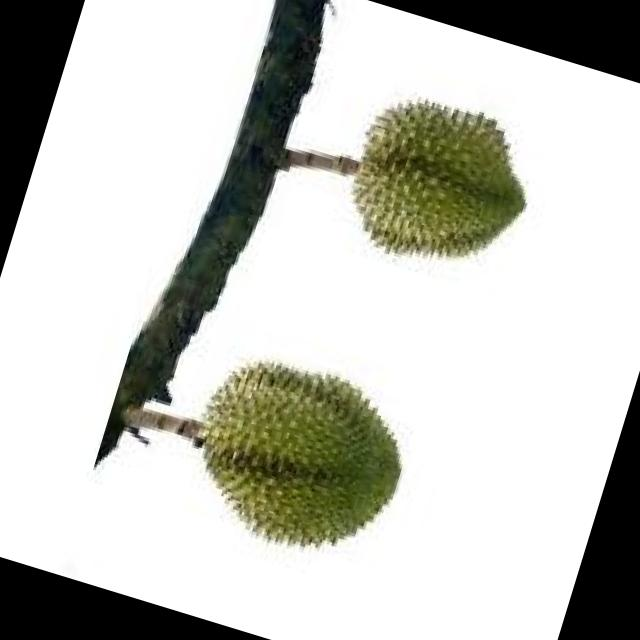fruit: (132, 303, 458, 608), (293, 46, 572, 320)
